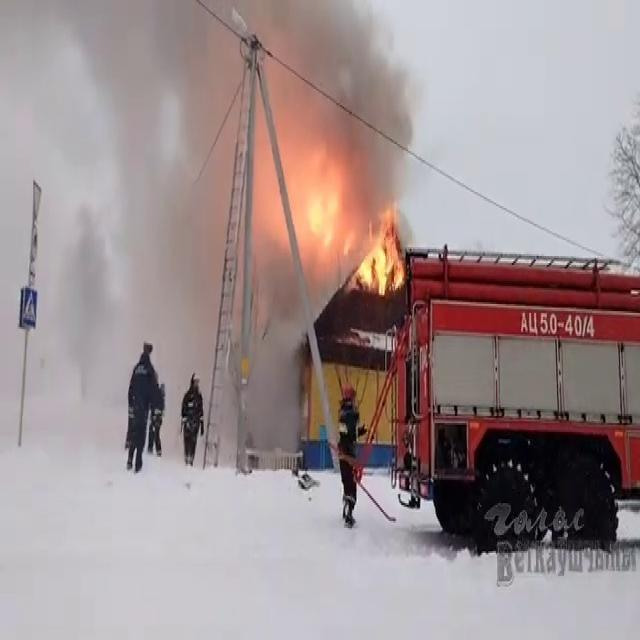Fire: (352, 216, 408, 300)
Smoke: (122, 0, 438, 203)
